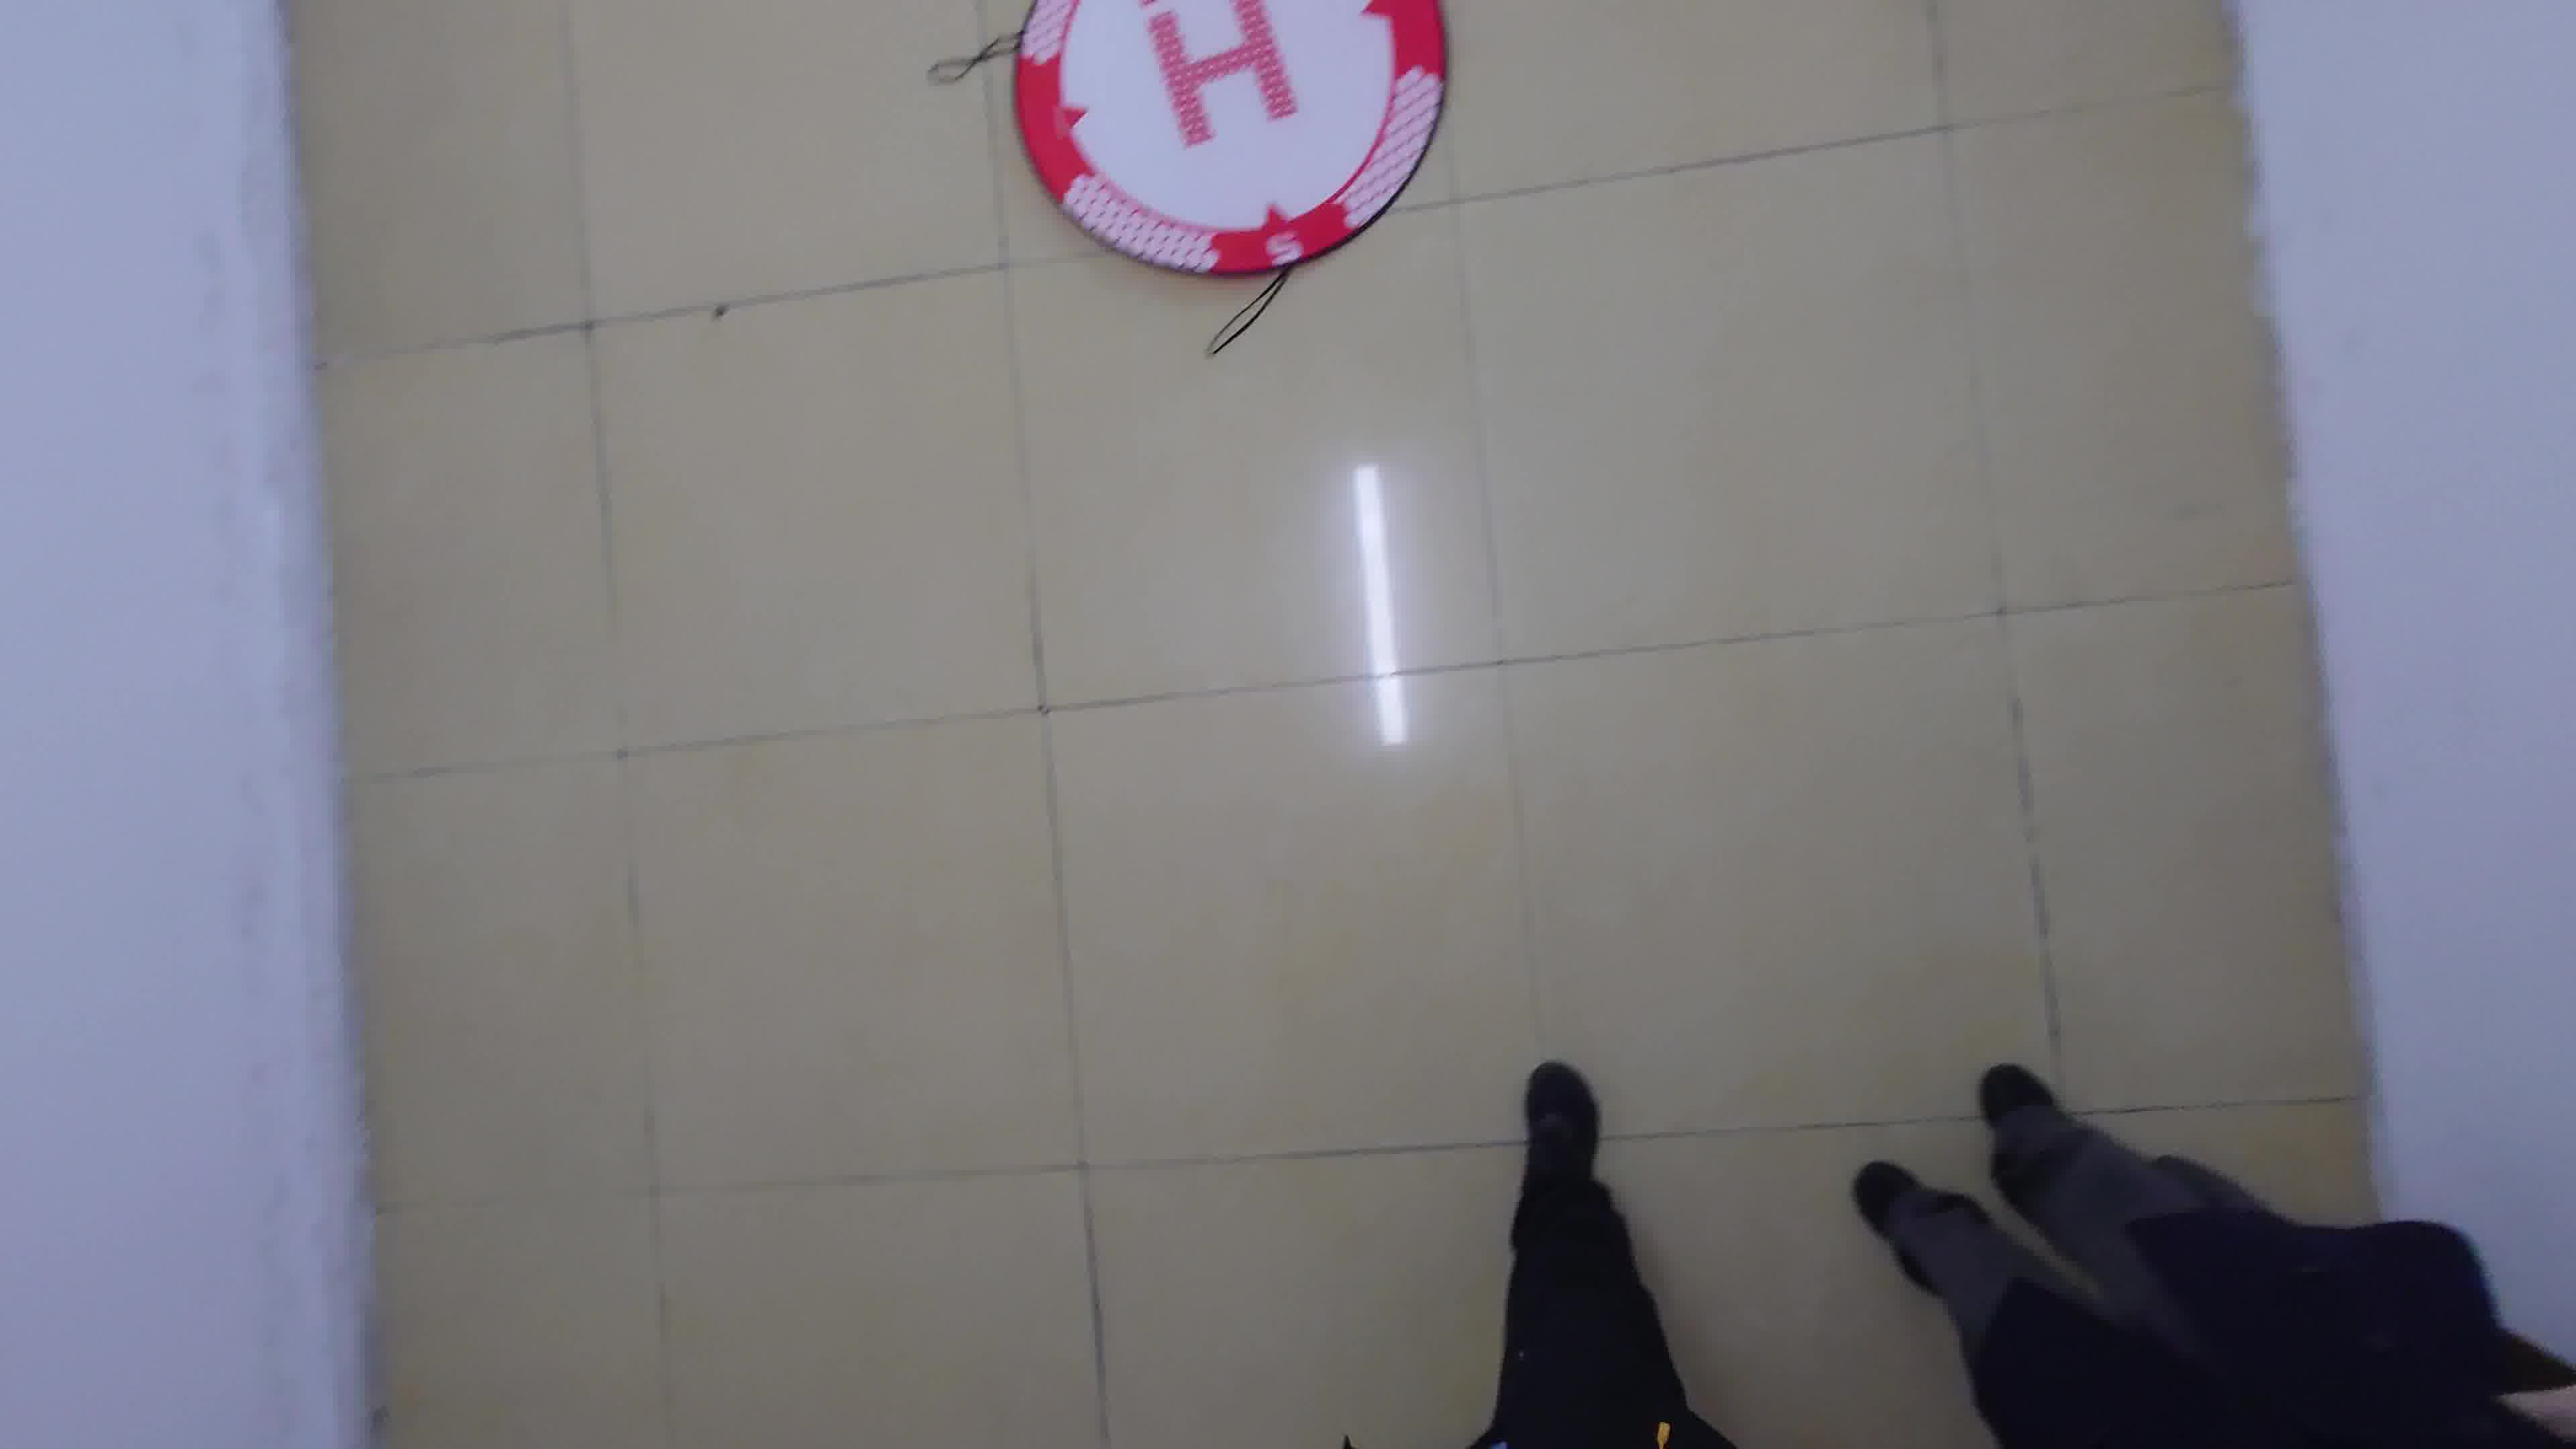H: (1145, 0, 1302, 147)
